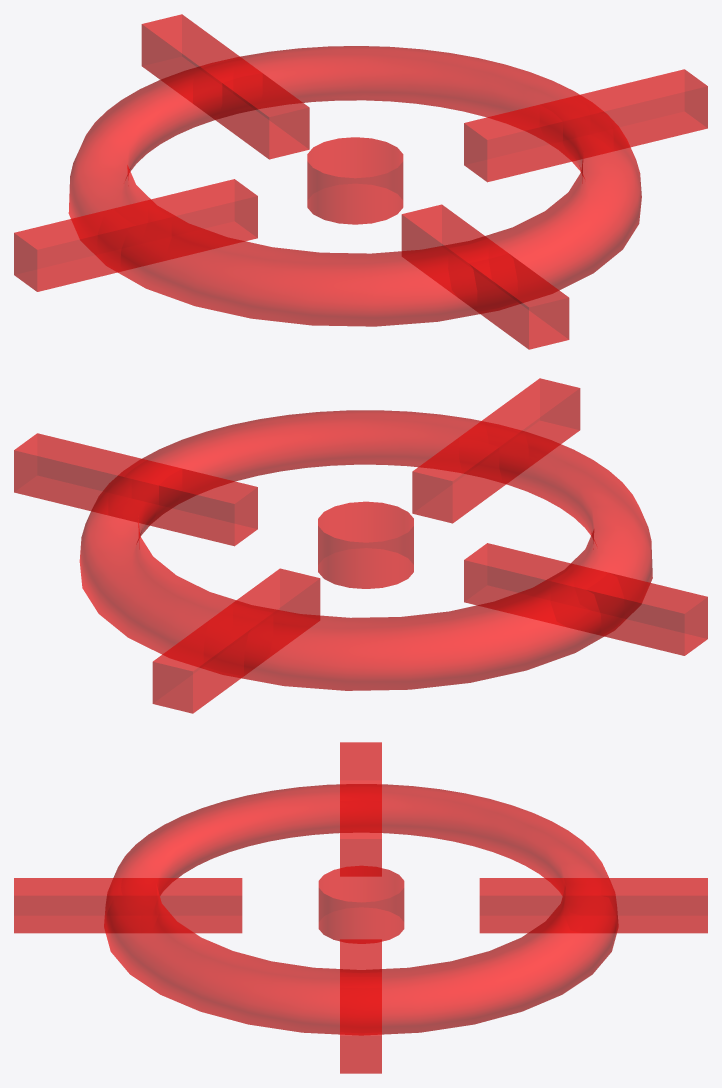
The model's file is target_effect0~30.FBX.
3 renders of one model, top to bottom at view 1: azimuth 30°, elevation 25°; view 2: azimuth 150°, elevation 25°; view 3: azimuth 270°, elevation 25°, orthographic. The views are drawn at different scales.
Parts seen in each view (by area): view 1: Object; view 2: Object; view 3: Object.
Part boxes in pixels (box(x1,y1,x2,y2)): Object: box(14, 14, 707, 349); Object: box(14, 378, 707, 713); Object: box(14, 742, 707, 1073).
Size of the model in its own units: 83.51 by 5.76 by 83.51.
